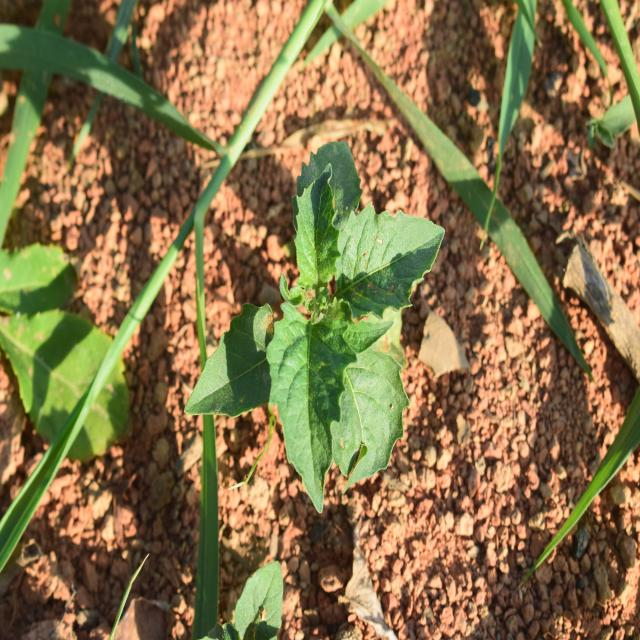Black_nightshade: (221, 162, 435, 494)
